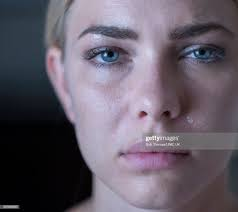white_female: (77, 6, 233, 212)
